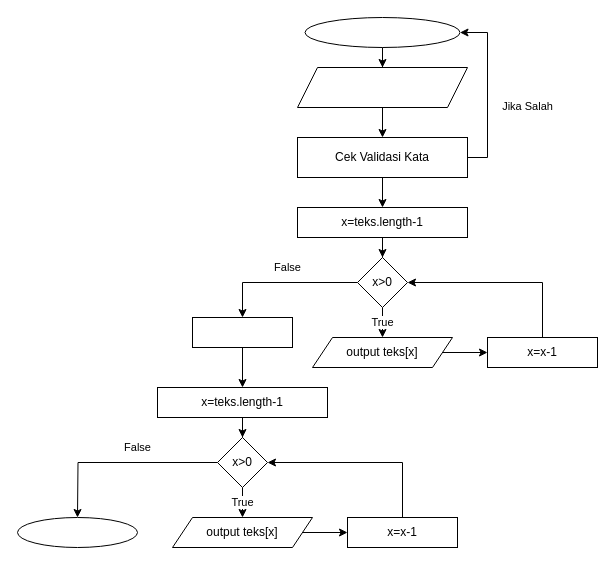
Image size: 615x565. Some labels were removed from this diagram. The centre of each missing label's shape, as x and y in pixels:
"Input Kata" belongs at [382,87].
"Mulai" belongs at [382,32].
"Selesai" belongs at [77,532].
"split()" belongs at [242,332].
